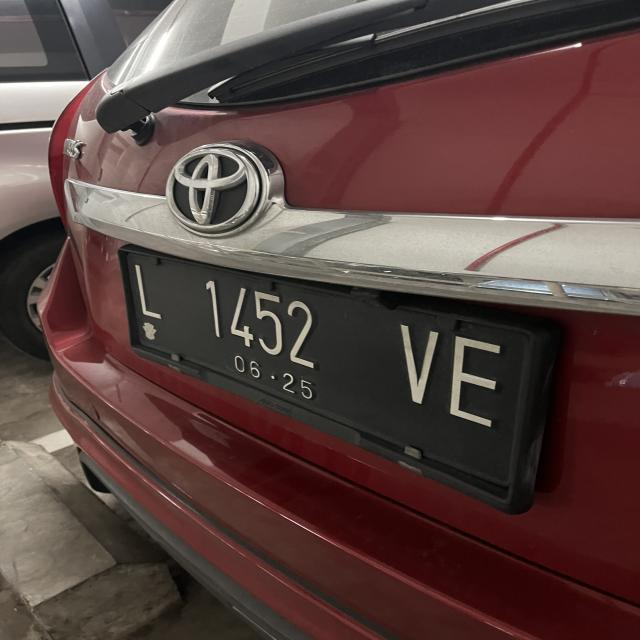1: (200, 278, 230, 339)
2: (286, 299, 318, 376)
4: (230, 286, 254, 346)
5: (253, 285, 281, 361)
E: (442, 334, 499, 422)
L: (128, 260, 164, 320)
V: (396, 320, 436, 405)
